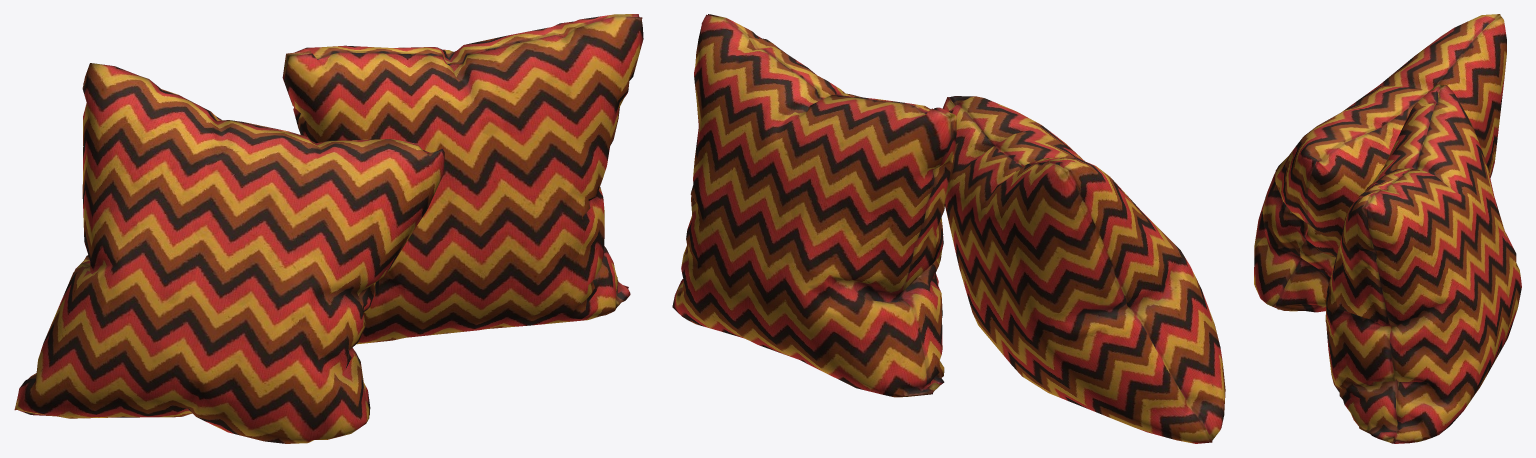
The model's file is throw_pillows_01.glb.
The picture shows the model from 3 angles, left to right: view 1: azimuth 30°, elevation 25°; view 2: azimuth 150°, elevation 25°; view 3: azimuth 270°, elevation 25°; orthographic projection. The views are drawn at different scales.
Parts seen in each view (by area): view 1: throw_pillows_01_pillow01, throw_pillows_01_pillow02; view 2: throw_pillows_01_pillow02, throw_pillows_01_pillow01; view 3: throw_pillows_01_pillow02, throw_pillows_01_pillow01.
Part boxes in pixels (bbox=[...]): throw_pillows_01_pillow01: bbox=[14, 63, 444, 443]; throw_pillows_01_pillow02: bbox=[282, 14, 643, 344]; throw_pillows_01_pillow02: bbox=[672, 14, 956, 397]; throw_pillows_01_pillow01: bbox=[942, 96, 1225, 443]; throw_pillows_01_pillow02: bbox=[1325, 84, 1521, 443]; throw_pillows_01_pillow01: bbox=[1254, 14, 1506, 312].
Size of the model in its own units: 0.9401 by 0.4499 by 0.4502.
1 material, 1 textured.
